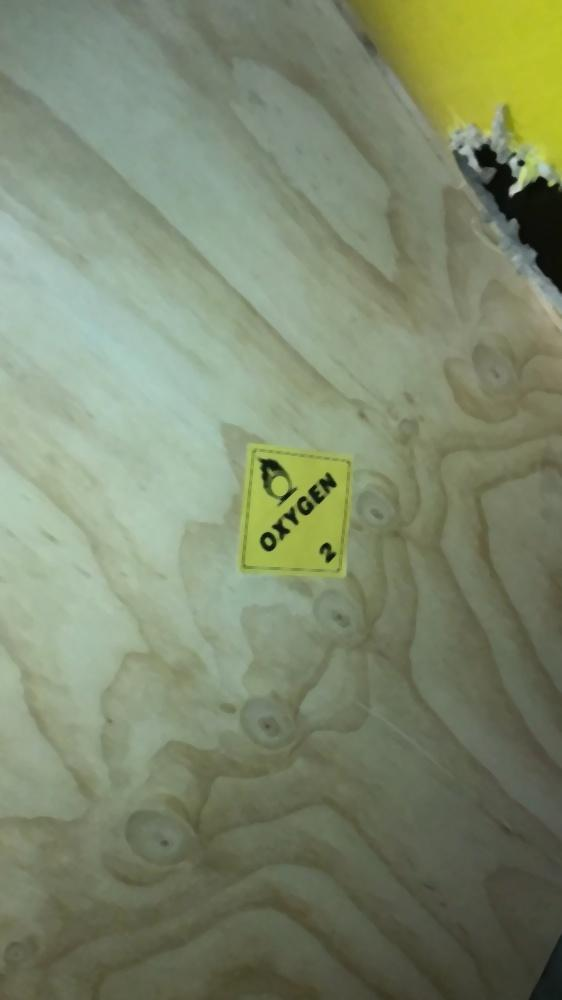oxidizer: (243, 443, 356, 580)
